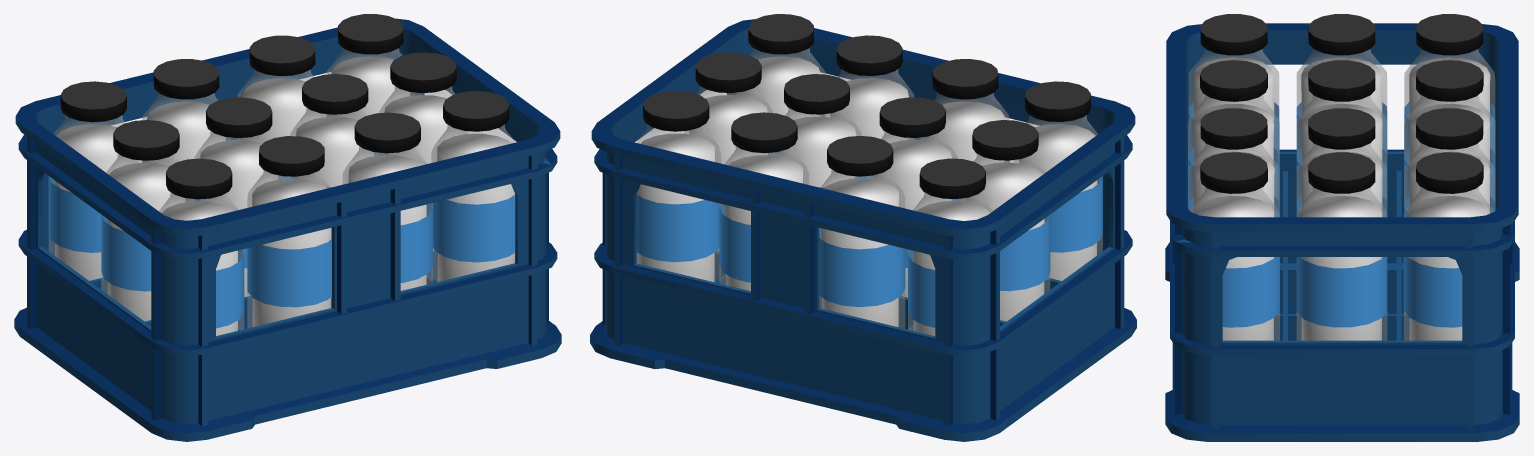
Rendered from Milk Bottle Crate.fbx.
3 renders of one model, left to right at view 1: azimuth 30°, elevation 25°; view 2: azimuth 150°, elevation 25°; view 3: azimuth 270°, elevation 25°, orthographic. The views are drawn at different scales.
Parts seen in each view (by area): view 1: Milk_Bottle_Crate; view 2: Milk_Bottle_Crate; view 3: Milk_Bottle_Crate.
Part boxes in pixels (x1=…): Milk_Bottle_Crate: x1=14, y1=14, x2=561, y2=441; Milk_Bottle_Crate: x1=590, y1=14, x2=1136, y2=441; Milk_Bottle_Crate: x1=1165, y1=14, x2=1519, y2=441.
Bounding box in the file's own units: 42.39 × 23.69 × 31.42.
